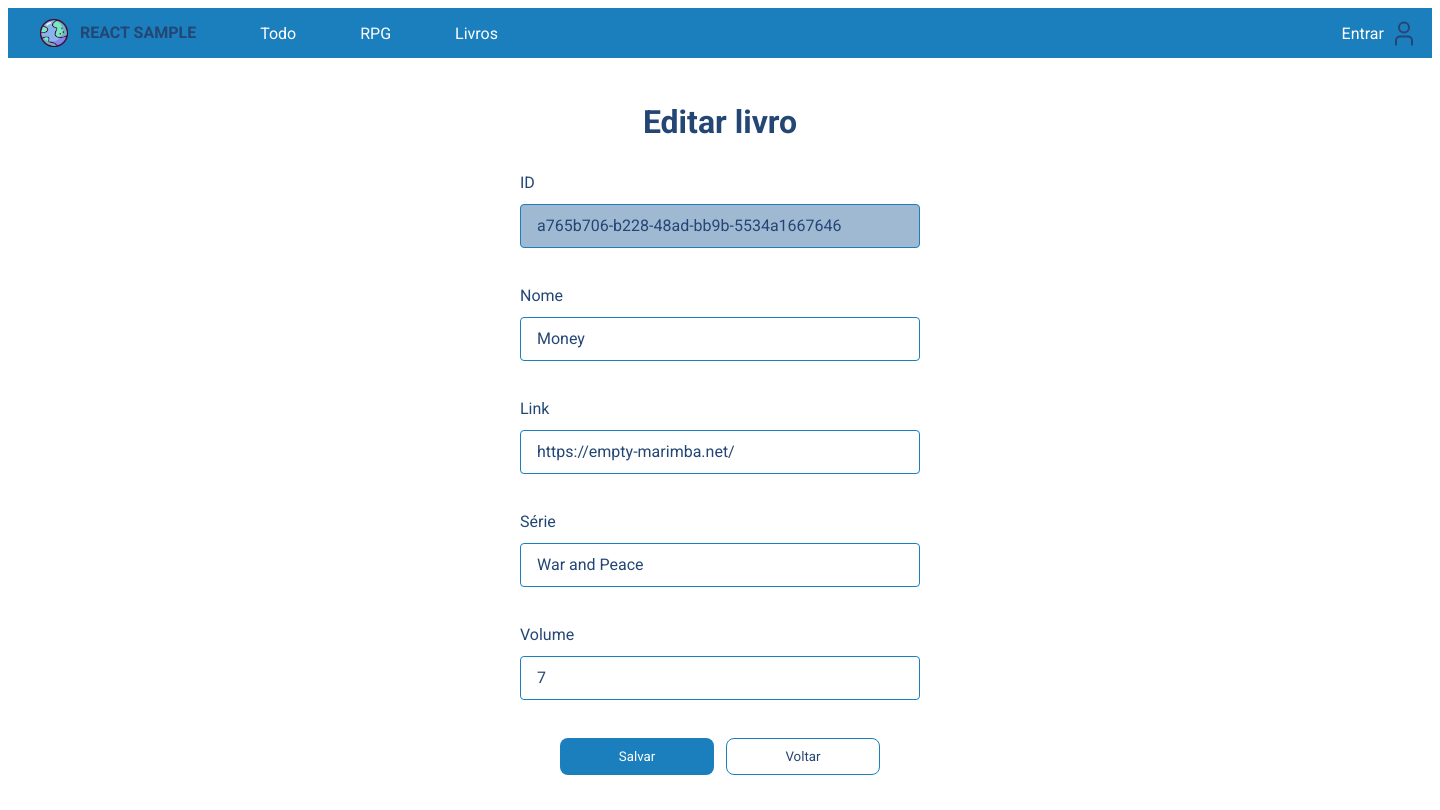
it: DetailPage › deve impedir edição quando algo estiver inválido
Clear the field labelled "Nome" at (720, 339), box [520, 317, 920, 361]
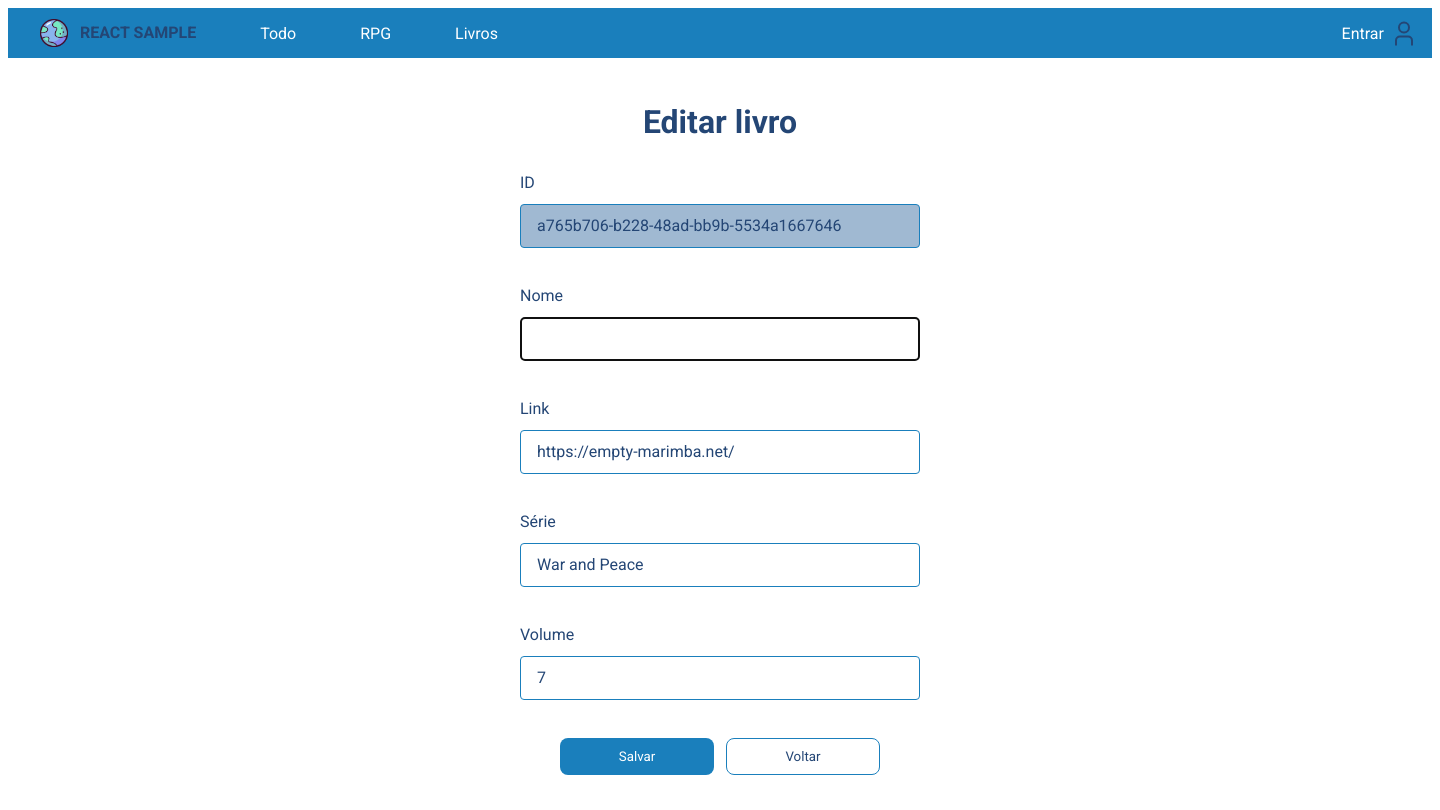
Clear the field labelled "Link" at (720, 452), box [520, 430, 920, 474]
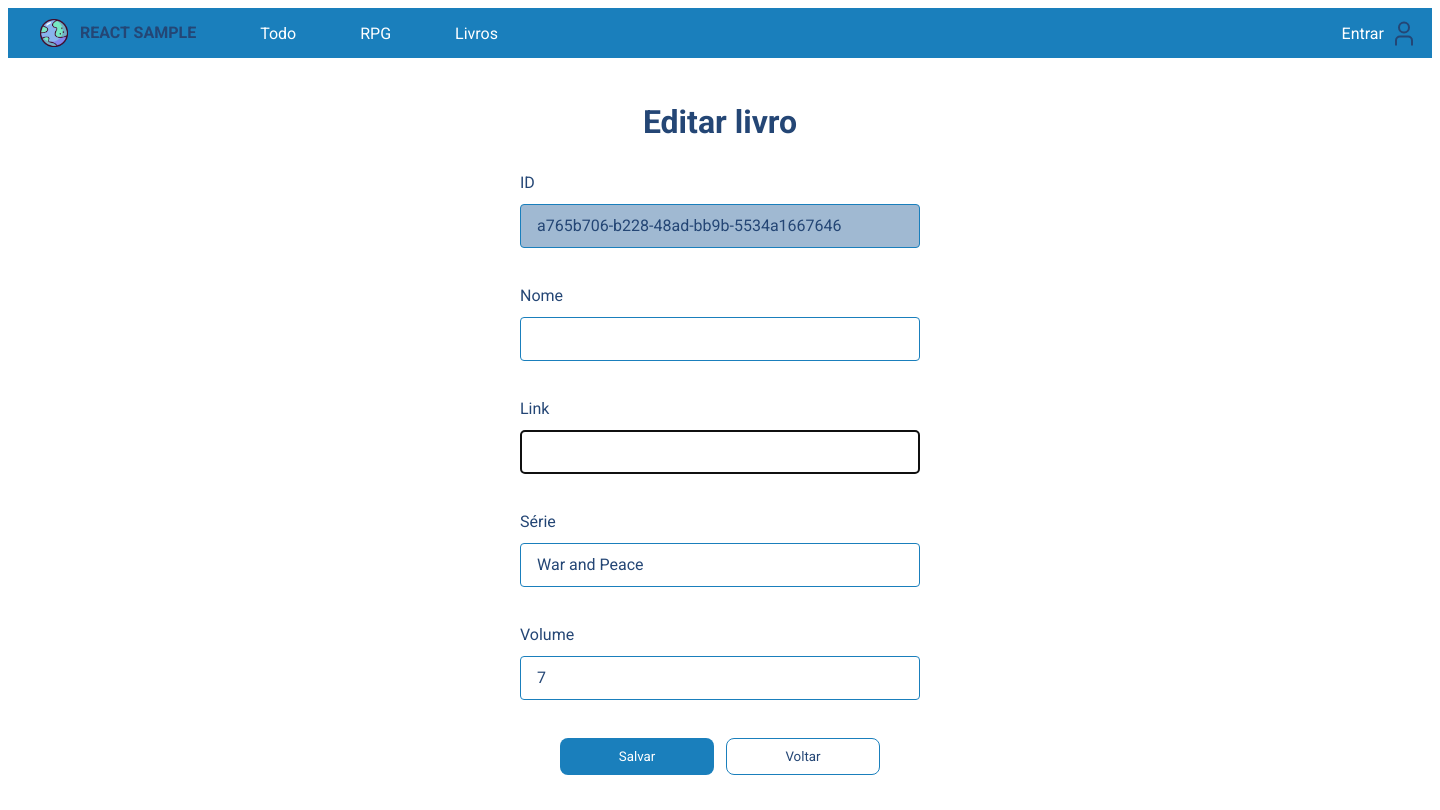
Click the button "Salvar" at (637, 756), box [560, 738, 714, 775]
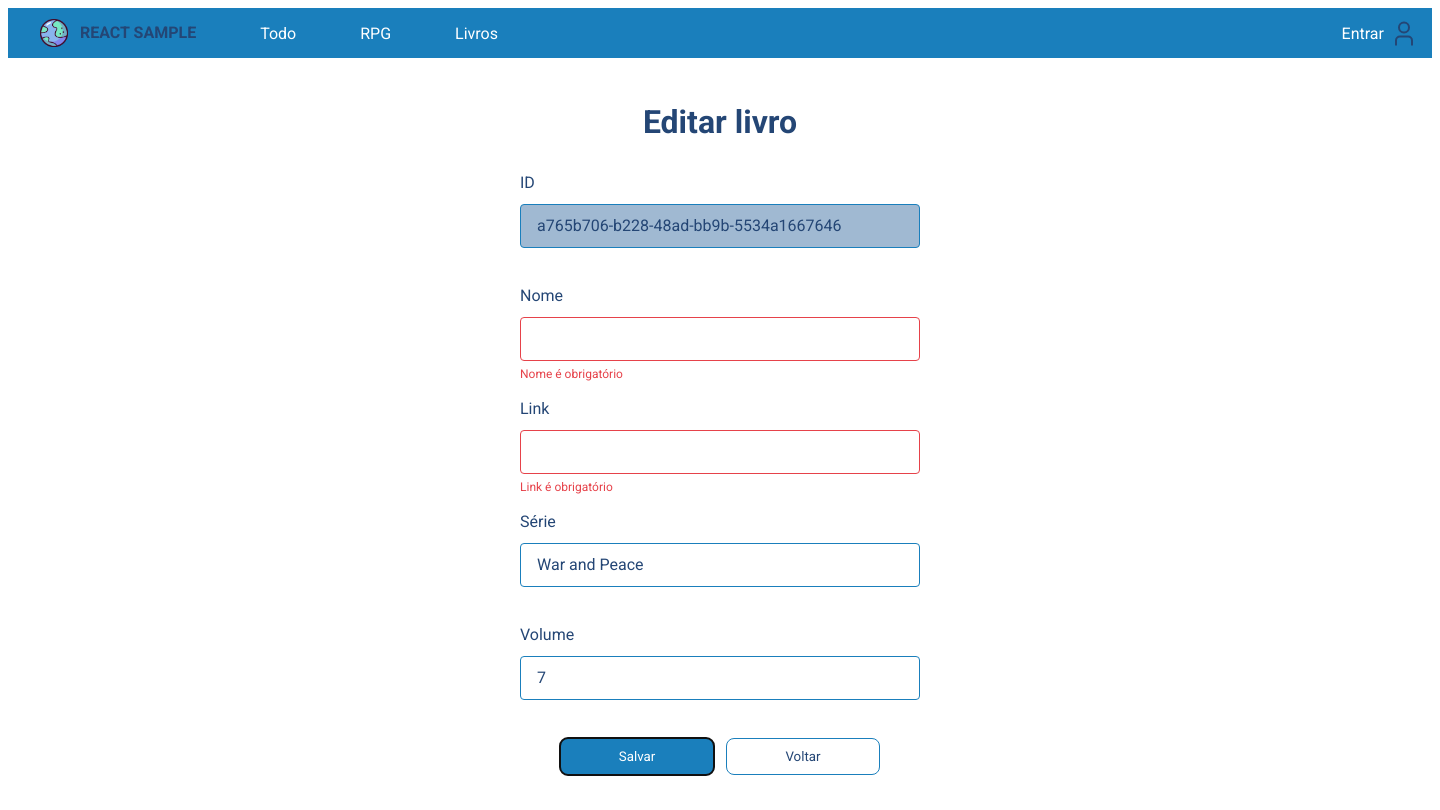
Expected: the text "Link é obrigatório" is shown, [520, 480, 613, 494]
Expected: the text "Nome é obrigatório" is shown, [520, 367, 623, 381]
